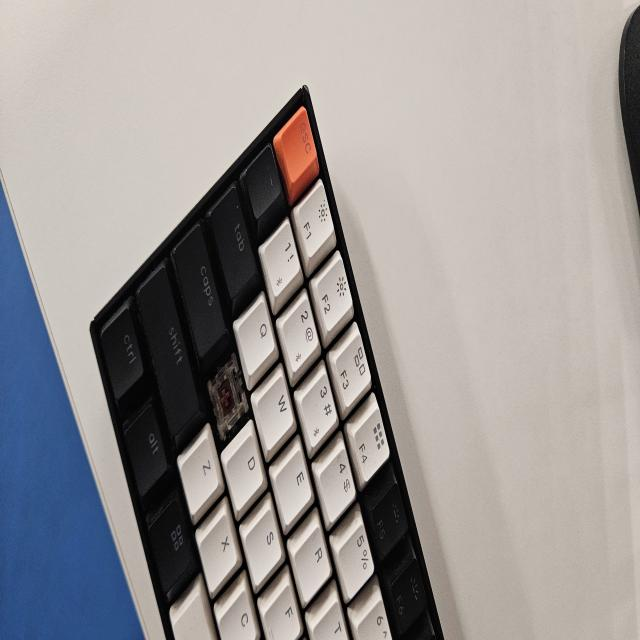C: (210, 372, 240, 425), (217, 367, 237, 430)
